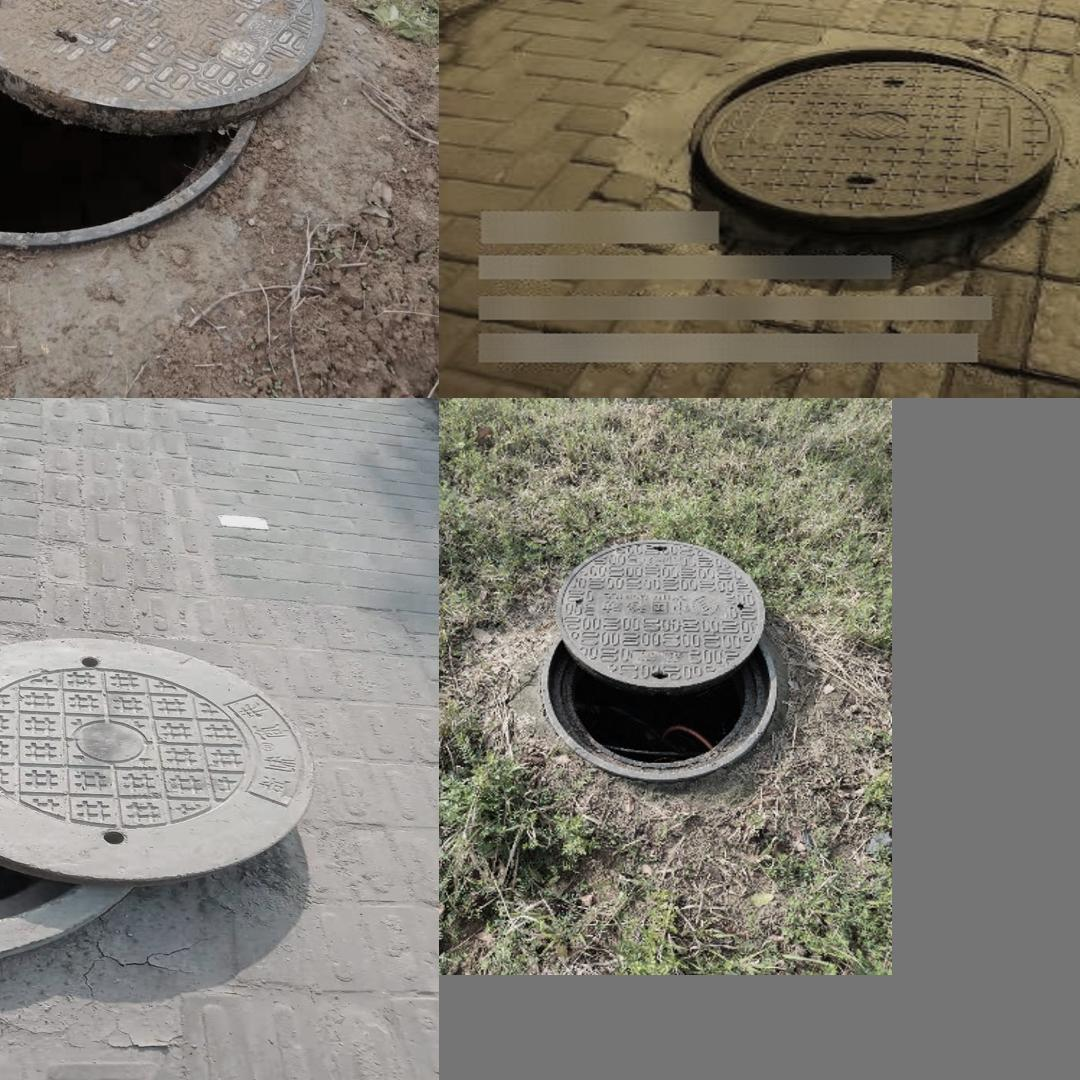uncovered: (0, 636, 310, 962), (0, 0, 335, 254), (686, 38, 1059, 228), (541, 541, 780, 780)
